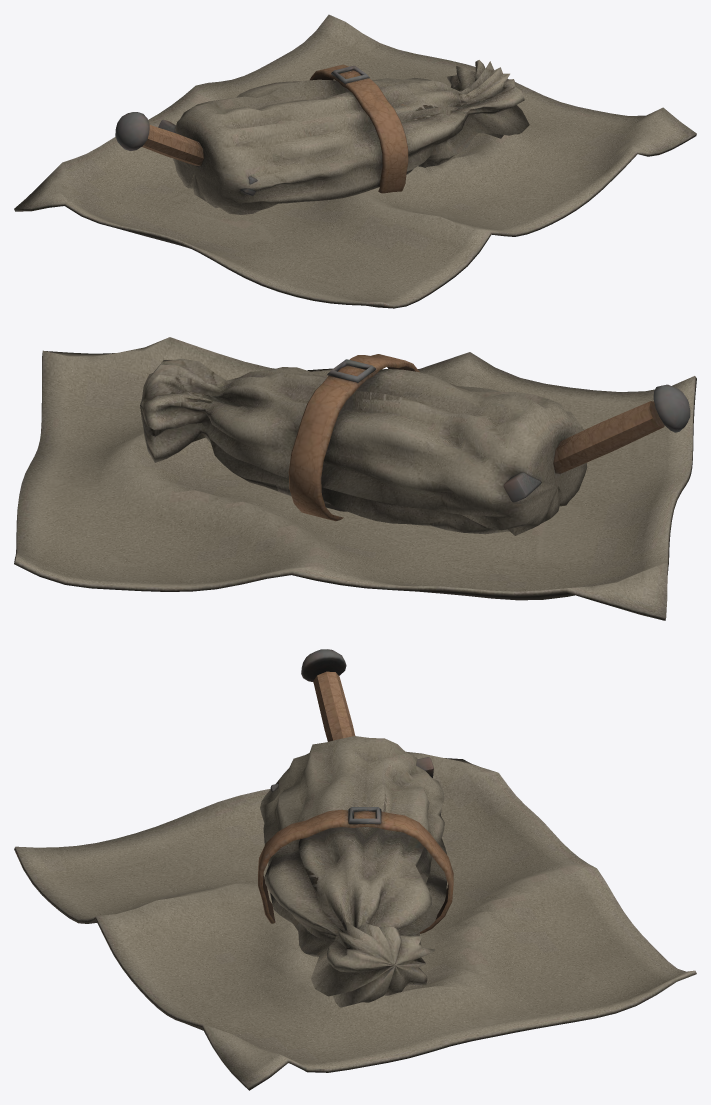
Rendered from pile.glb.
The picture shows the model from 3 angles, top to bottom: view 1: azimuth 30°, elevation 25°; view 2: azimuth 150°, elevation 25°; view 3: azimuth 270°, elevation 25°; orthographic projection. The views are drawn at different scales.
Parts seen in each view (by area): view 1: pile, Contents; view 2: pile, Contents; view 3: pile, Contents.
Boxes of the visible parts, x1=… form: pile: x1=14, y1=14, x2=696, y2=308; Contents: x1=115, y1=60, x2=529, y2=214; pile: x1=14, y1=337, x2=696, y2=620; Contents: x1=140, y1=354, x2=690, y2=535; pile: x1=14, y1=751, x2=696, y2=1090; Contents: x1=258, y1=649, x2=453, y2=1007.
Size of the model in its own units: 0.8077 by 0.1814 by 0.709.
1 material, 1 textured.
